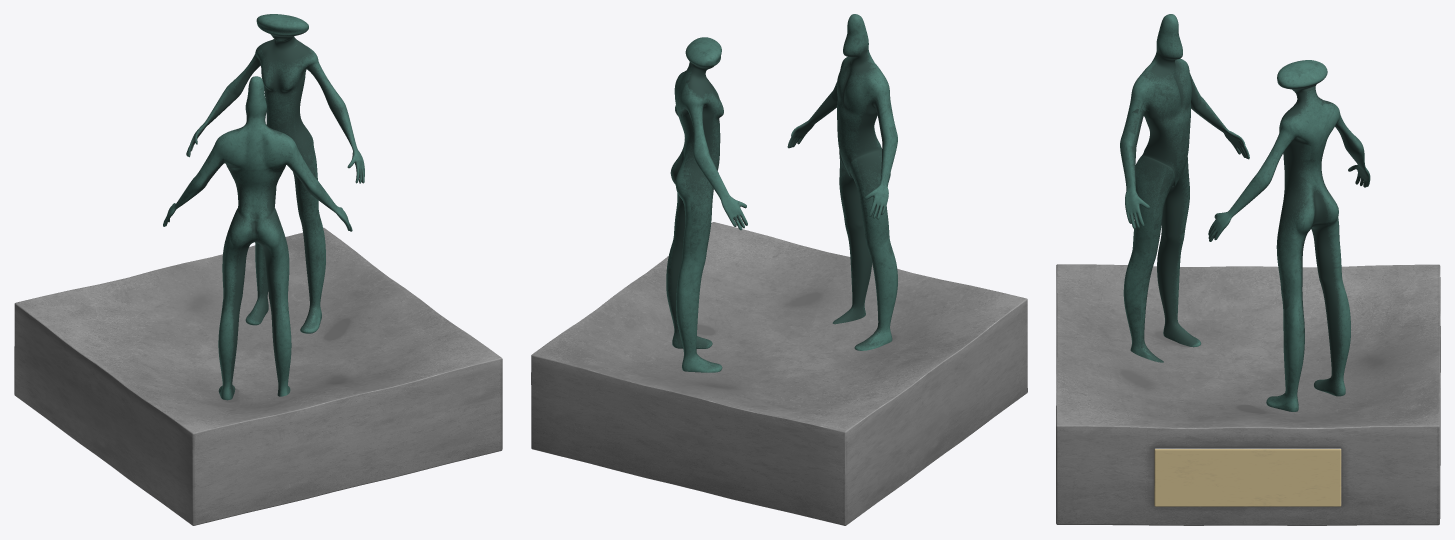
File: choerography_award.glb
3 renders of one model, left to right at view 1: azimuth 30°, elevation 25°; view 2: azimuth 150°, elevation 25°; view 3: azimuth 270°, elevation 25°, orthographic. The views are drawn at different scales.
Parts seen in each view (by area): view 1: bottom.001, Human_175cm.001, Human_175cm.003; view 2: bottom.001, Human_175cm.001, Human_175cm.003; view 3: bottom.001, Human_175cm.003, Human_175cm.001.
Boxes of the visible parts, <box> form: bottom.001: <box>14,227,502,525</box>; Human_175cm.001: <box>163,76,352,400</box>; Human_175cm.003: <box>186,14,364,333</box>; bottom.001: <box>531,222,1027,525</box>; Human_175cm.001: <box>787,14,897,350</box>; Human_175cm.003: <box>666,37,747,372</box>; bottom.001: <box>1056,264,1440,525</box>; Human_175cm.003: <box>1208,60,1370,411</box>; Human_175cm.001: <box>1120,14,1249,362</box>.
Bounding box in the file's own units: 0.3835 × 0.4487 × 0.3808.
Materials: 3 (3 with a texture image).
